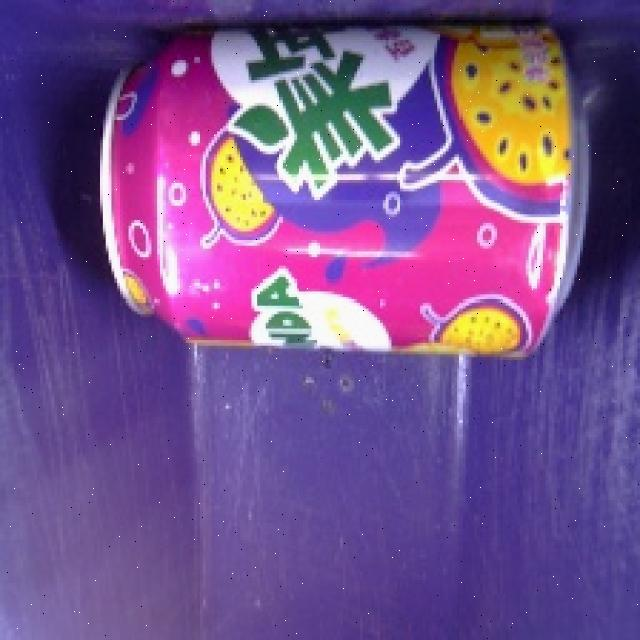metal: (76, 0, 611, 392)
